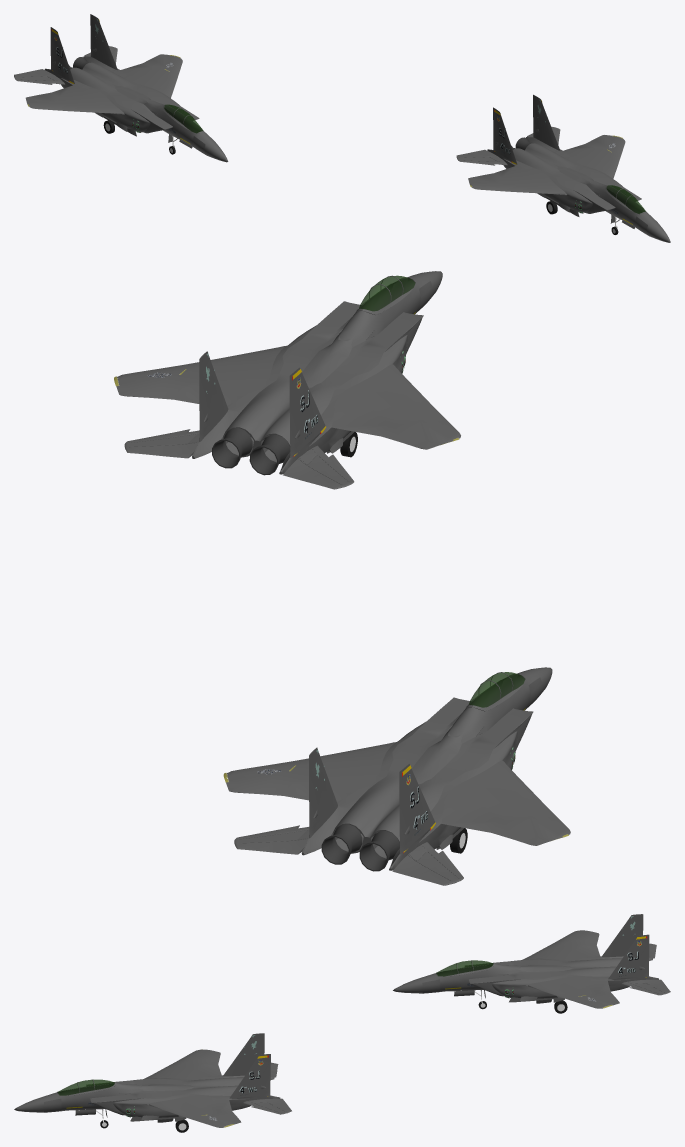
3 renders of one model, top to bottom at view 1: azimuth 30°, elevation 25°; view 2: azimuth 150°, elevation 25°; view 3: azimuth 270°, elevation 25°, orthographic. The views are drawn at different scales.
Parts seen in each view (by area): view 1: F15-FUSE, F15-FUSE001; view 2: F15-FUSE001, F15-FUSE; view 3: F15-FUSE001, F15-FUSE.
Boxes of the visible parts, x1=… form: F15-FUSE: x1=14, y1=14, x2=228, y2=162; F15-FUSE001: x1=456, y1=94, x2=670, y2=242; F15-FUSE001: x1=114, y1=271, x2=460, y2=489; F15-FUSE: x1=223, y1=667, x2=570, y2=885; F15-FUSE001: x1=14, y1=1033, x2=291, y2=1132; F15-FUSE: x1=393, y1=914, x2=670, y2=1013.
Bounding box in the file's own units: 7.15 × 1.27 × 10.04.
Materials: 11 (6 with a texture image).
